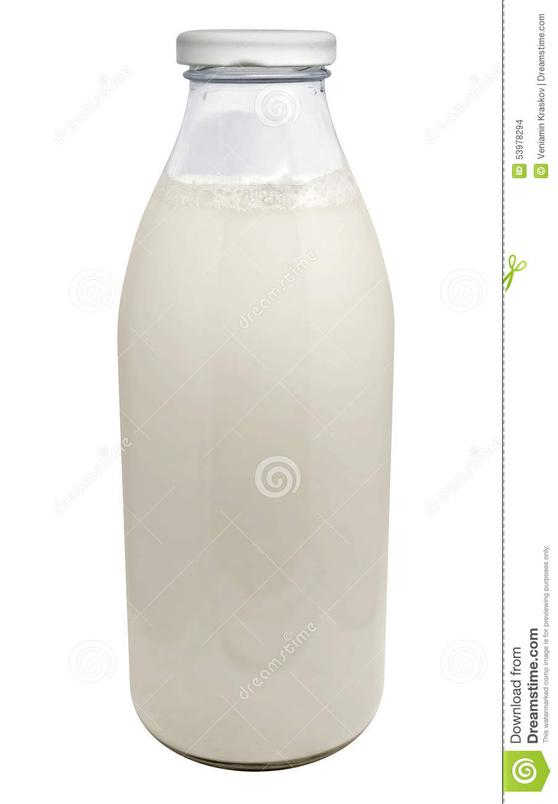milk: (112, 16, 402, 771)
